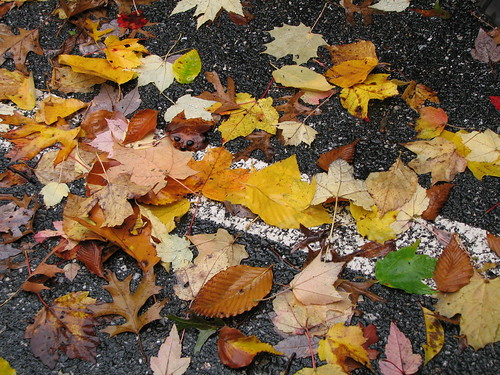street: (7, 6, 500, 375)
vegetation: (28, 25, 500, 353)
